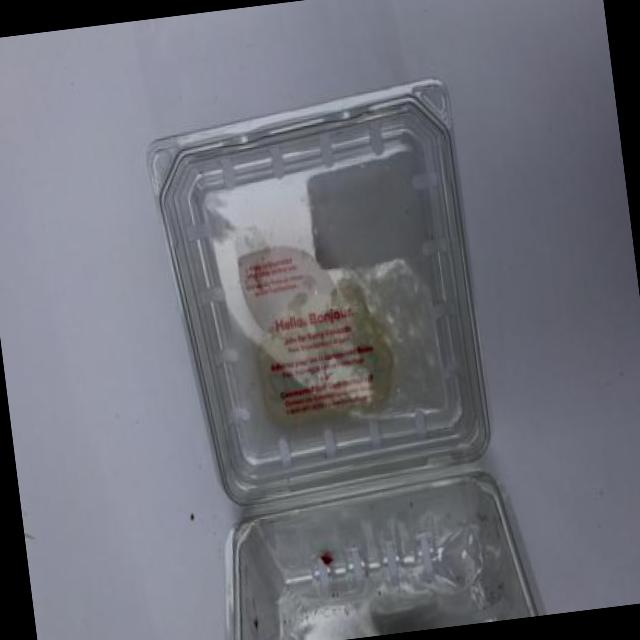Recycle: (133, 69, 548, 640)
